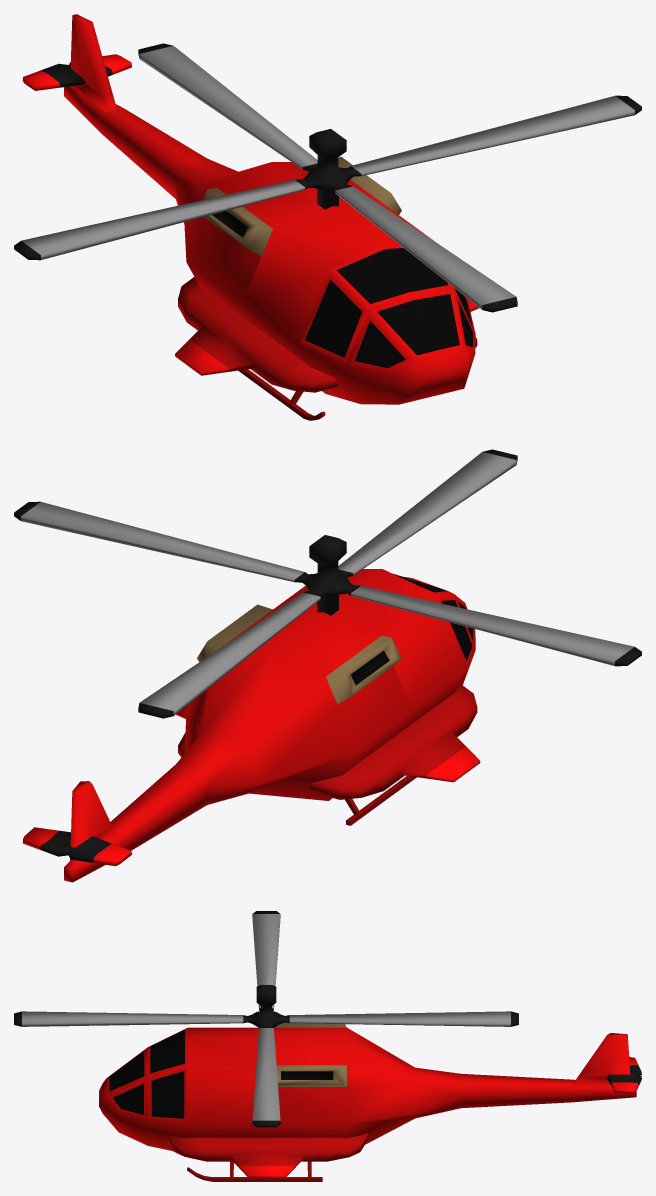
File: Helicopter-03.fbx
3 renders of one model, top to bottom at view 1: azimuth 30°, elevation 25°; view 2: azimuth 150°, elevation 25°; view 3: azimuth 270°, elevation 25°, orthographic. The views are drawn at different scales.
Visible parts, largest first — view 1: Cube, Helice; view 2: Cube, Helice; view 3: Cube, Helice.
Boxes of the visible parts, x1=… form: Cube: x1=22, y1=14, x2=478, y2=420; Helice: x1=14, y1=43, x2=641, y2=312; Cube: x1=22, y1=569, x2=480, y2=882; Helice: x1=14, y1=449, x2=641, y2=718; Cube: x1=99, y1=1022, x2=641, y2=1181; Helice: x1=14, y1=911, x2=518, y2=1127.
Size of what is drawn, in the model's own units: 17.26 by 6.52 by 21.46.
